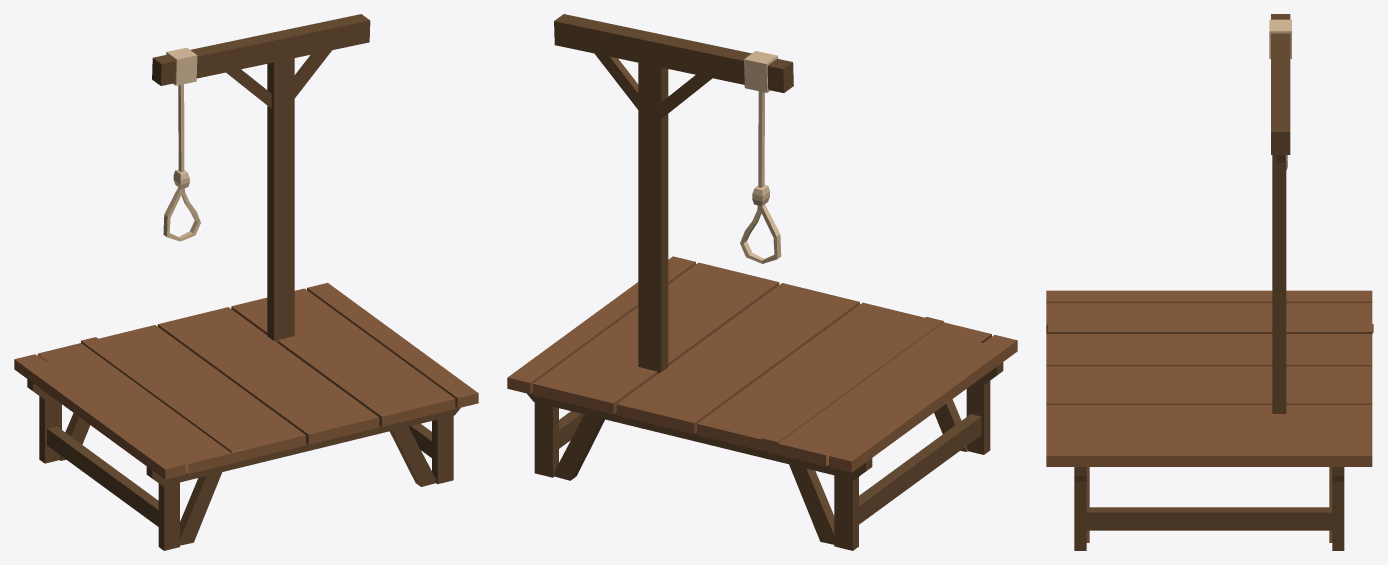
Rendered from gibbet.glb.
3 views of the same model, side by side, from view 1: azimuth 30°, elevation 25°; view 2: azimuth 150°, elevation 25°; view 3: azimuth 270°, elevation 25° (orthographic). The views are drawn at different scales.
Visible parts, largest first — view 1: gibbet; view 2: gibbet; view 3: gibbet.
Part boxes in pixels (box(x1,y1,x2,y2)): gibbet: box(14, 14, 478, 550); gibbet: box(507, 14, 1017, 550); gibbet: box(1046, 14, 1373, 550).
Bounding box in the file's own units: 3.43 × 4.19 × 2.87.
1 material, 1 textured.
